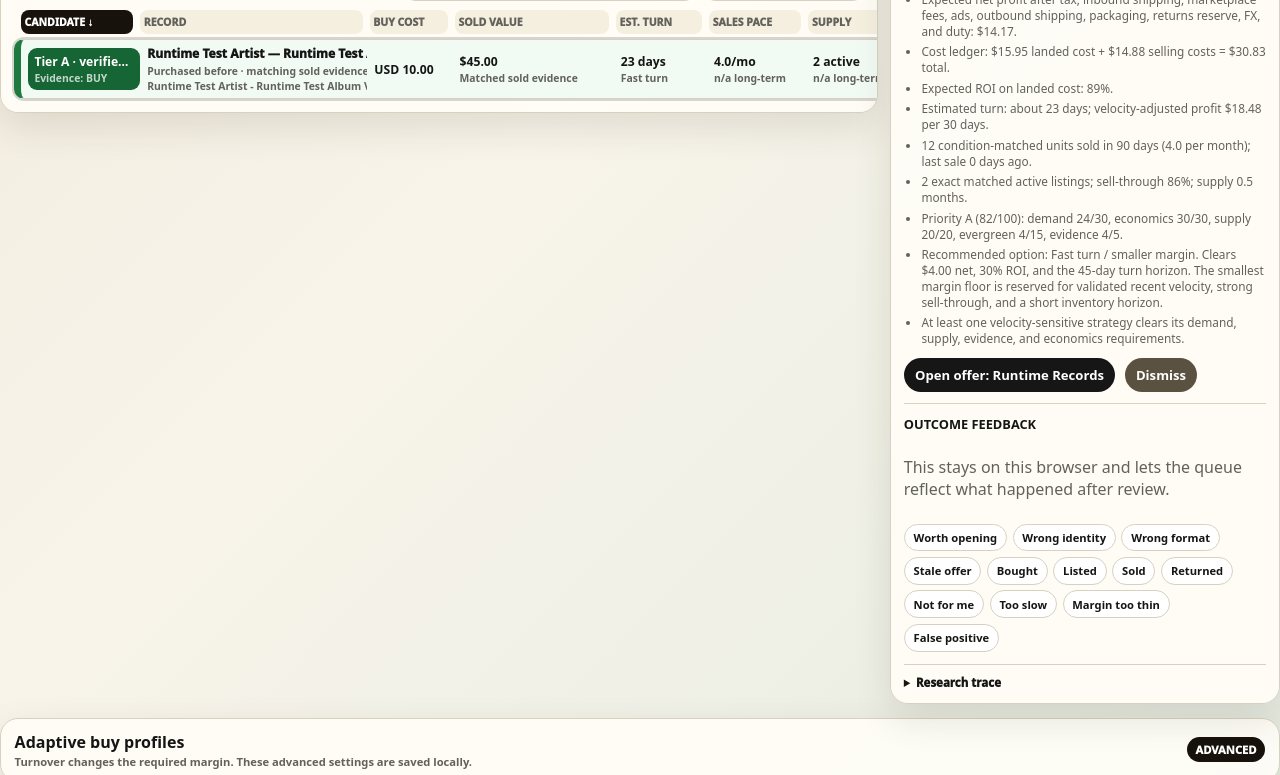
Test case: arbitrage pages › releases dismissal and outcome feedback when the retail offer price changes
(page scrolled)
What coordinates should you click on to do the following:
click the button "Dismiss"
I would click on:
 (1161, 375)
Its box is [1125,358,1197,392].
(page scrolled)
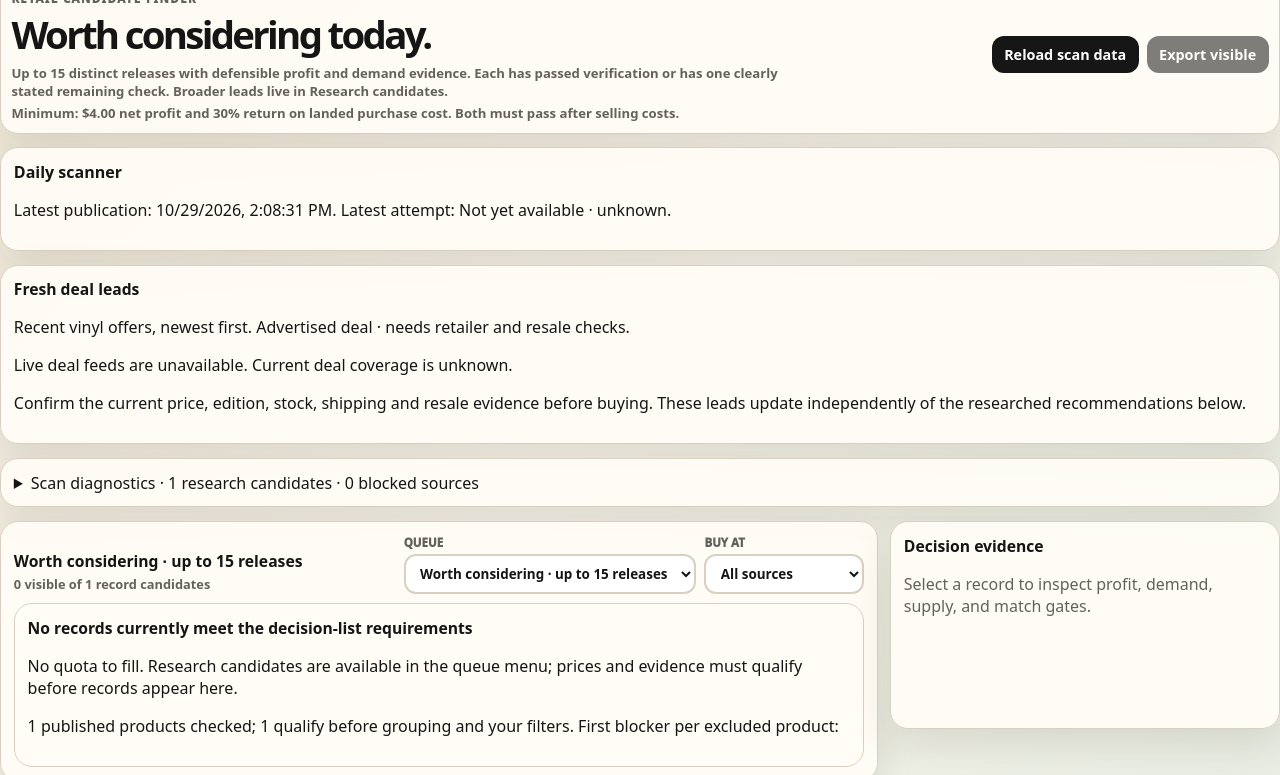
expect the text "Runtime Test Album" is gone: met
What coordinates should you click on to do the following:
click the button "Reload scan data"
I would click on:
 (1065, 54)
Its box is [992,36,1139,73].
(page scrolled)
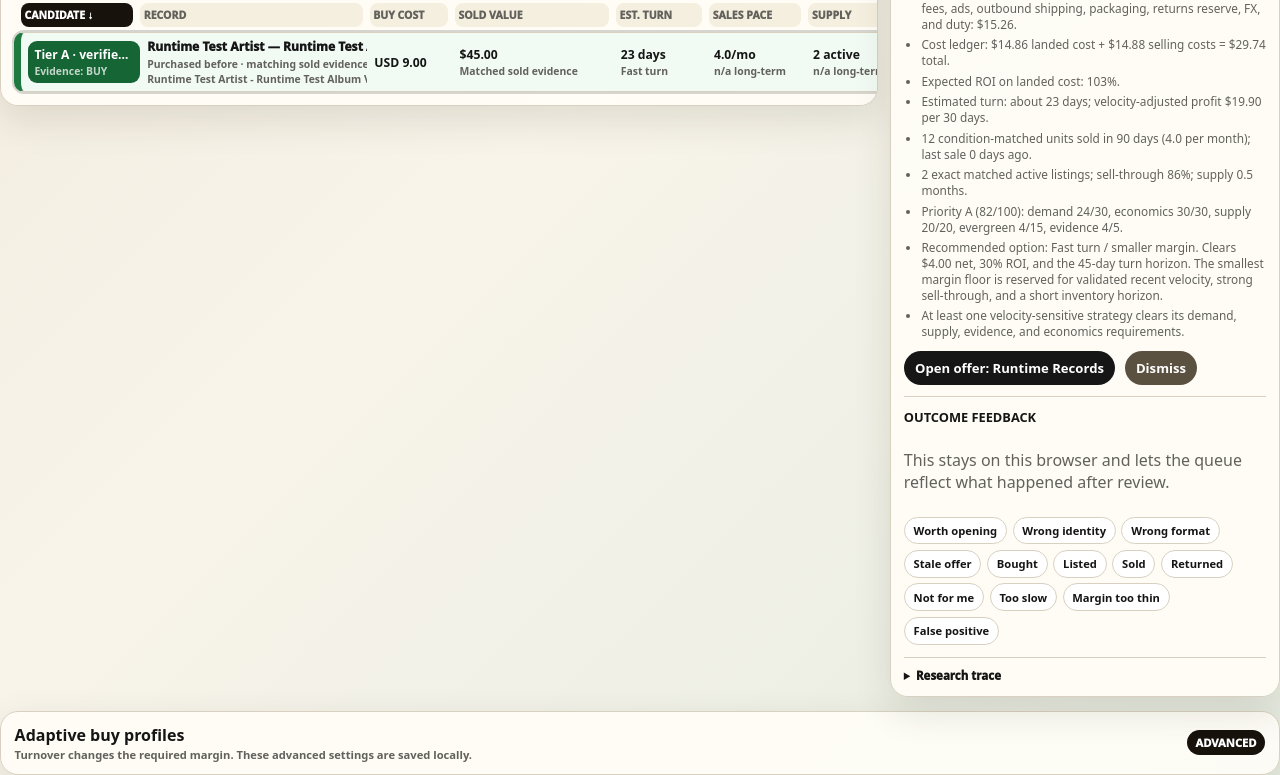
expect the text "Runtime Test Album" is shown: met, box [147,38,367,55]
expect the button "False positive" is shown: met
What coordinates should you click on to do the following:
click the button "False positive"
I would click on:
 (951, 631)
Its box is [904,617,999,645].
(page scrolled)
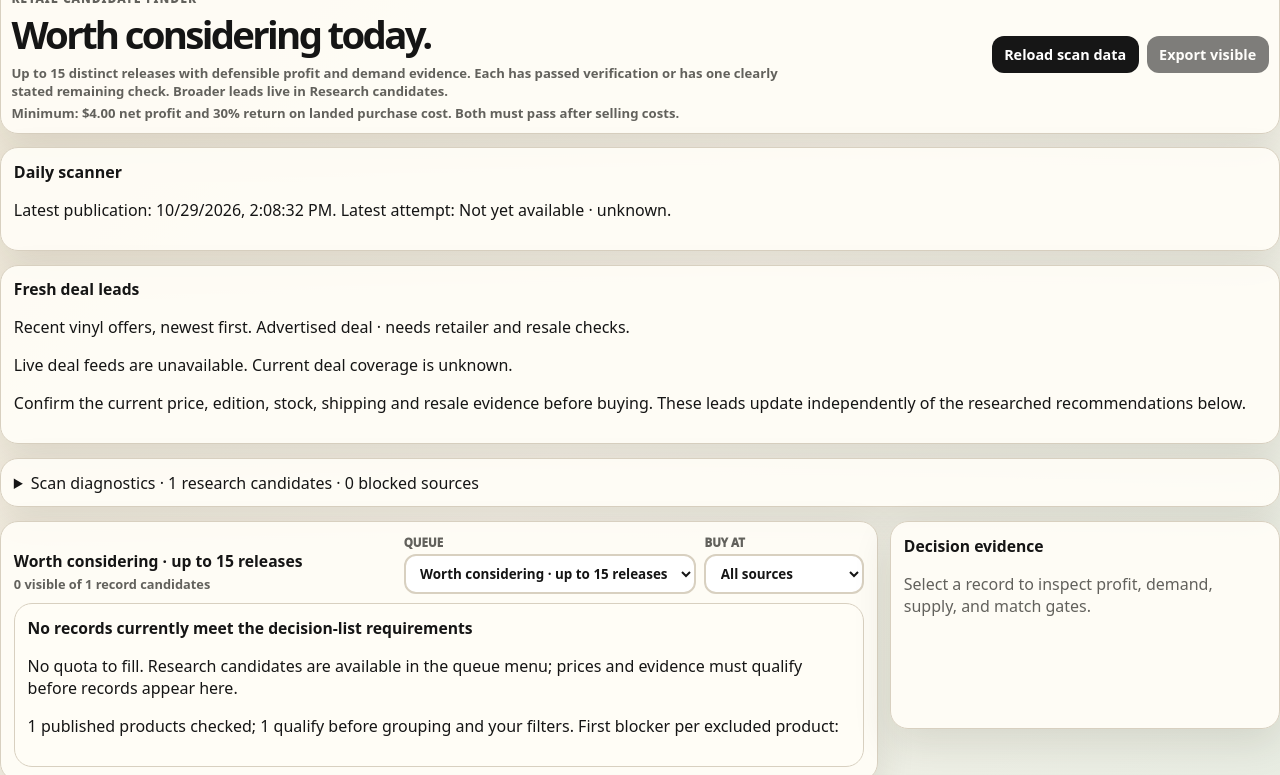
expect the text "Runtime Test Album" is gone: met
What coordinates should you click on to do the following:
click the button "Reload scan data"
I would click on:
 (1065, 54)
Its box is [992,36,1139,73].
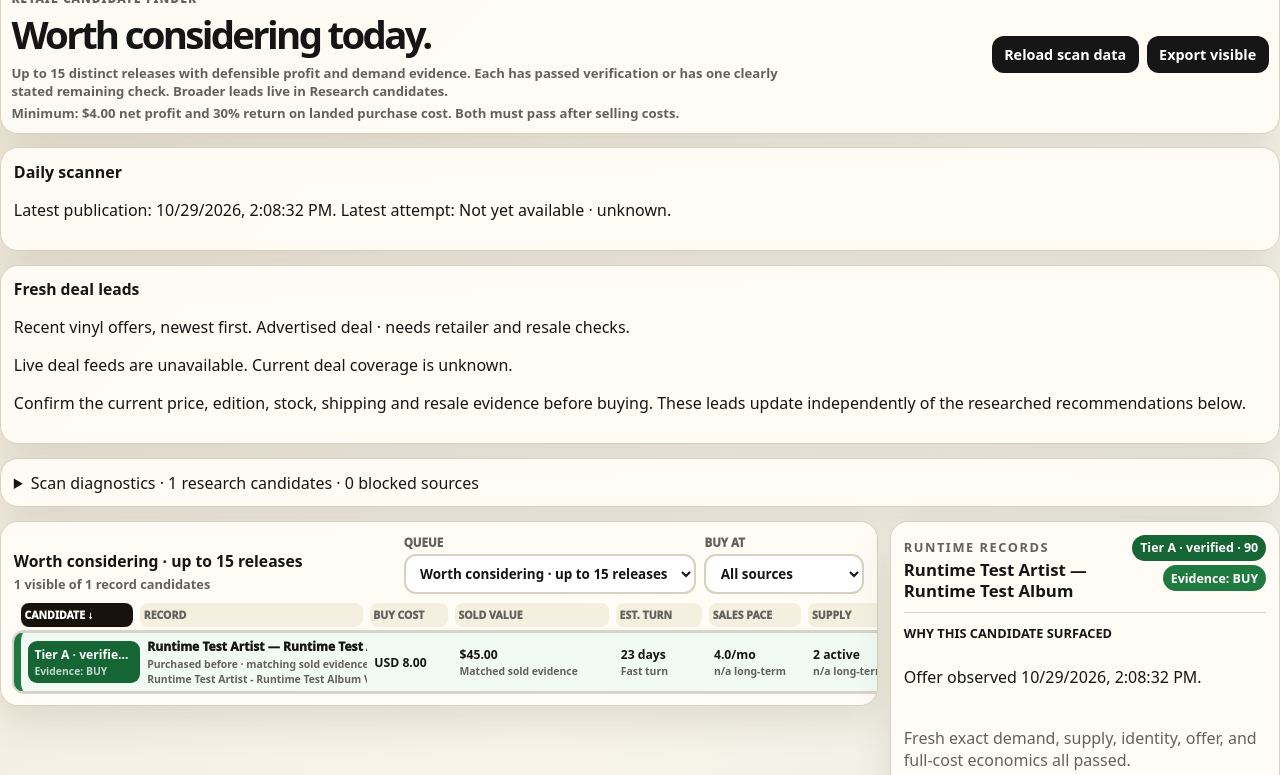
expect the text "Runtime Test Album" is shown: met, box [147,638,367,655]
